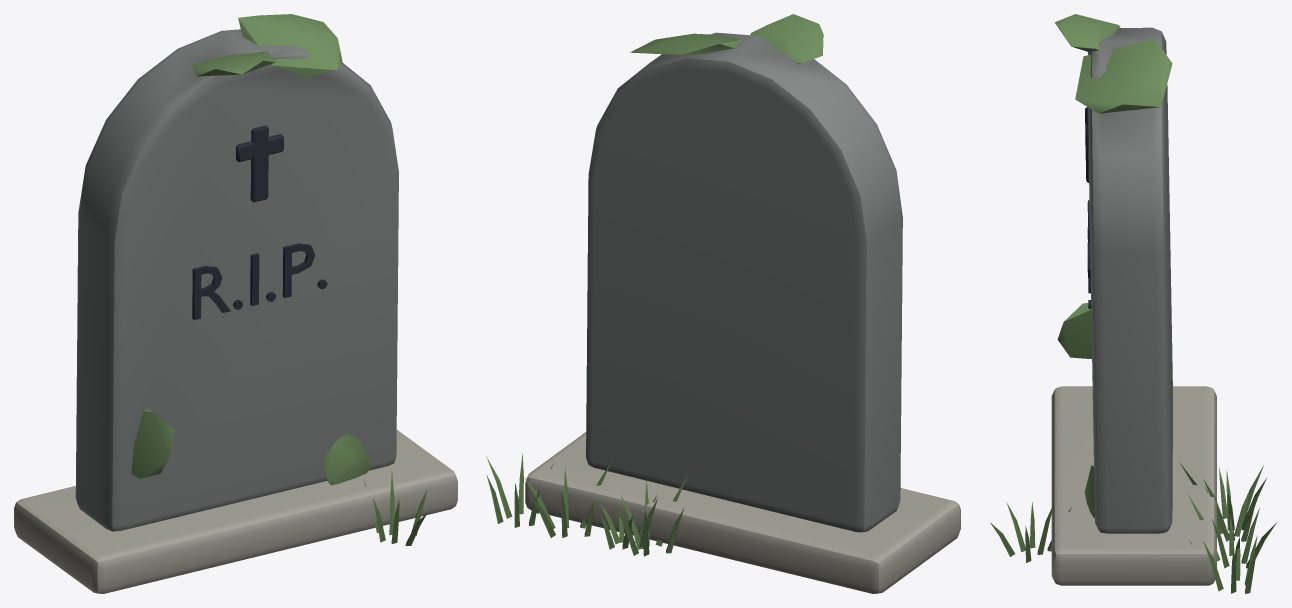
Rendered from headstone_decor.glb.
3 views of the same model, side by side, from view 1: azimuth 30°, elevation 25°; view 2: azimuth 150°, elevation 25°; view 3: azimuth 270°, elevation 25° (orthographic). The views are drawn at different scales.
Parts seen in each view (by area): view 1: headstone_decor; view 2: headstone_decor; view 3: headstone_decor.
Boxes of the visible parts, <box> form: headstone_decor: <box>14,14,457,593</box>; headstone_decor: <box>486,14,960,593</box>; headstone_decor: <box>990,14,1276,593</box>.
Bounding box in the file's own units: 0.837 × 1.01 × 0.5592.
